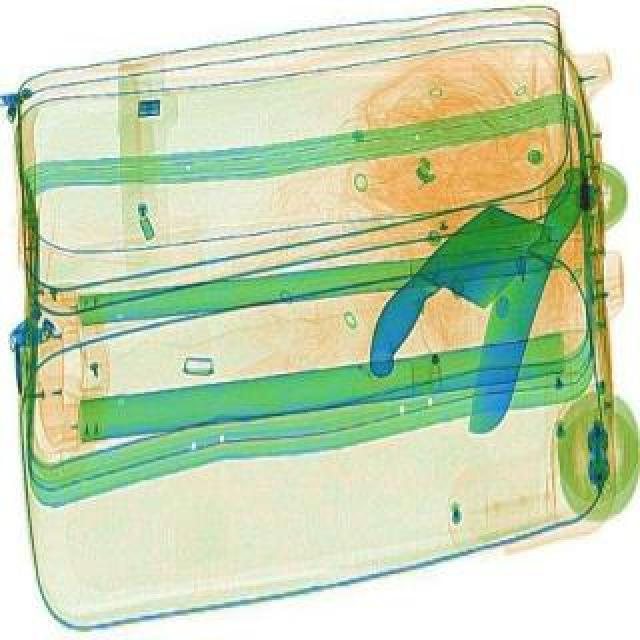knife: (340, 190, 560, 398), (448, 156, 596, 444)
